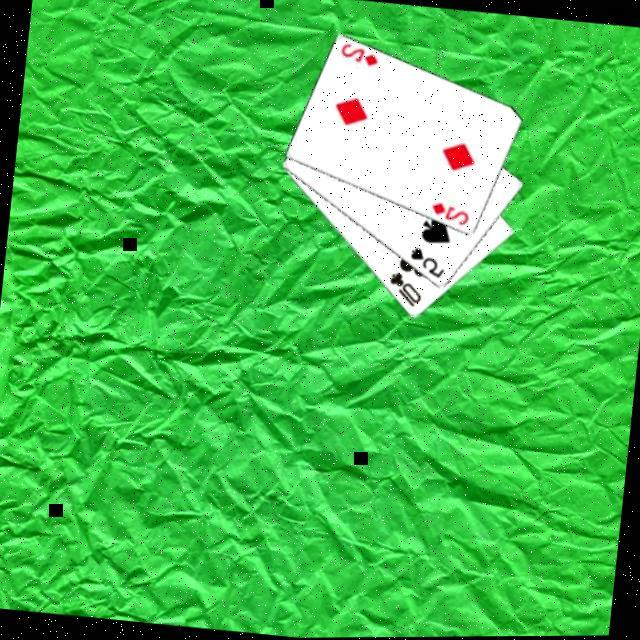10C: (385, 268, 429, 311)
2D: (430, 198, 474, 228), (339, 40, 383, 70)
5S: (407, 243, 450, 281)
